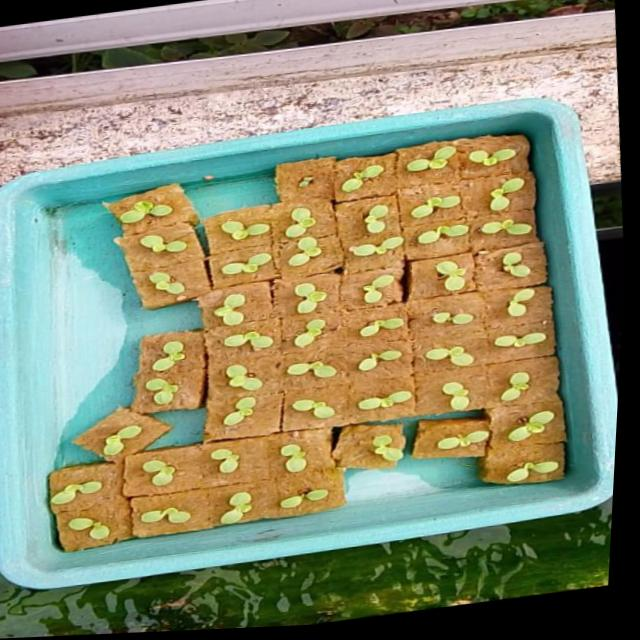Baby: (118, 411, 173, 454), (506, 368, 566, 405), (75, 508, 138, 541), (90, 475, 142, 509), (244, 322, 292, 353), (230, 360, 284, 387), (446, 297, 506, 321), (383, 267, 427, 299), (531, 238, 572, 272), (246, 245, 299, 271), (437, 136, 487, 163), (143, 194, 197, 218), (370, 156, 414, 185), (163, 373, 198, 407), (150, 502, 209, 522), (376, 229, 432, 250), (379, 345, 428, 369), (508, 209, 566, 229), (522, 170, 556, 204), (446, 218, 499, 238), (238, 288, 270, 321), (240, 488, 272, 521), (464, 254, 496, 286), (315, 230, 348, 261), (449, 343, 499, 363), (316, 314, 349, 344), (244, 393, 277, 423), (321, 278, 352, 309), (312, 202, 342, 233), (383, 313, 428, 333), (246, 212, 293, 231), (165, 229, 212, 248), (310, 357, 359, 375), (499, 140, 547, 158), (173, 266, 209, 290), (165, 455, 198, 481), (533, 283, 562, 312), (520, 329, 573, 344), (466, 379, 494, 407), (301, 441, 328, 470), (174, 336, 207, 359), (392, 196, 417, 226), (450, 188, 489, 205), (232, 446, 259, 470), (323, 396, 354, 415)
